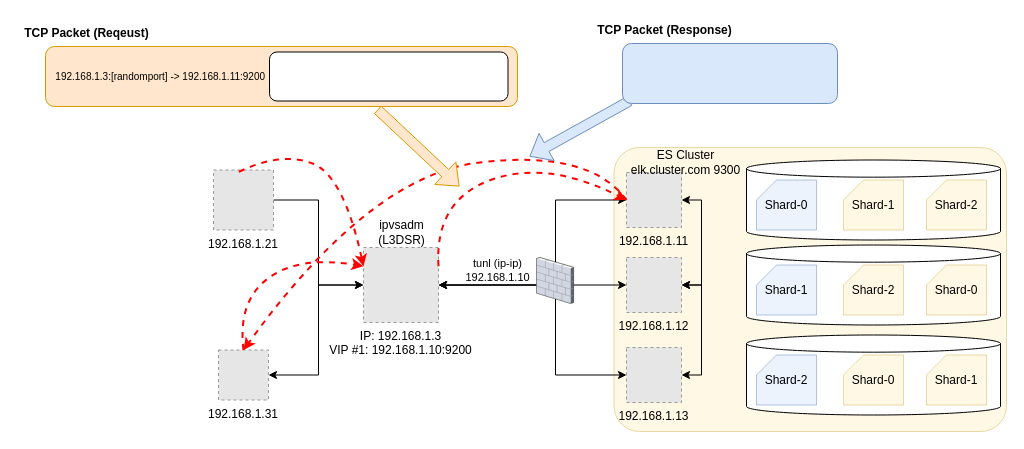
Image size: 1024x449. Some labels were removed from this diagram. Grey dashed boxes stand in for pictures. The shapes that lost their labels are listed below. From the top down, each one's centre as x and y in pixels, then its label:
At (x=388, y=76): "사용자IP:[Randomport] -> 192.168.1.10:9200".
At (x=730, y=73): "192.168.1.10:9200 -> 사용자IP:[Randomport]".
At (x=554, y=280): "iptables".
